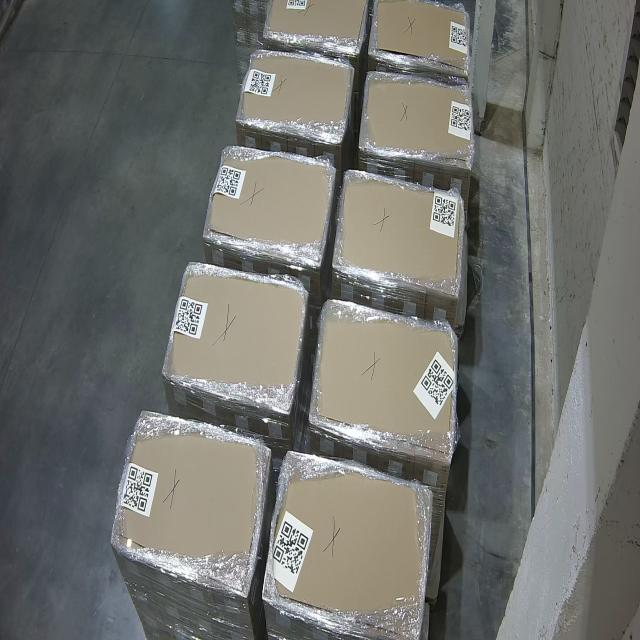pallet: (261, 449, 430, 640), (112, 411, 270, 592), (162, 262, 308, 413), (313, 305, 460, 453), (336, 171, 466, 294), (204, 147, 335, 269), (235, 49, 355, 141), (360, 71, 474, 164), (371, 0, 472, 73), (263, 0, 368, 55)
